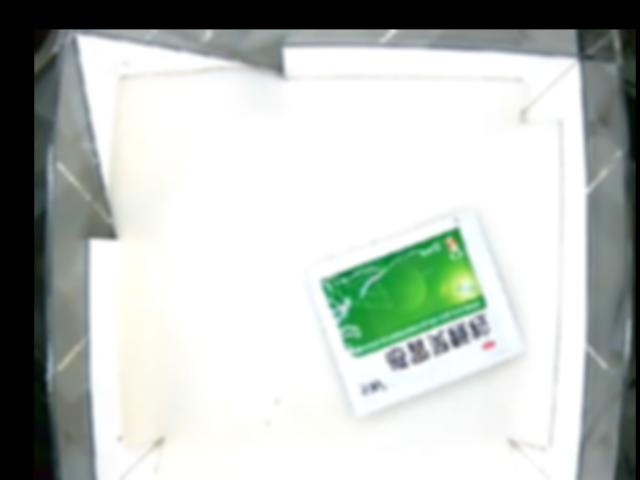Medicine: (309, 206, 525, 417)
